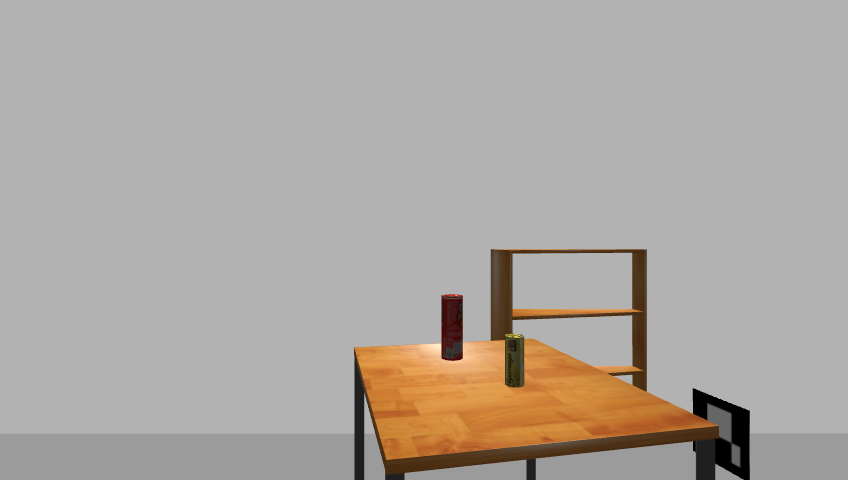aruco marker: (688, 387, 756, 479)
biscuits pack: (504, 334, 526, 389)
bookshelf: (486, 245, 654, 409)
dinner table: (345, 337, 726, 480)
pringles can: (438, 293, 466, 363)
